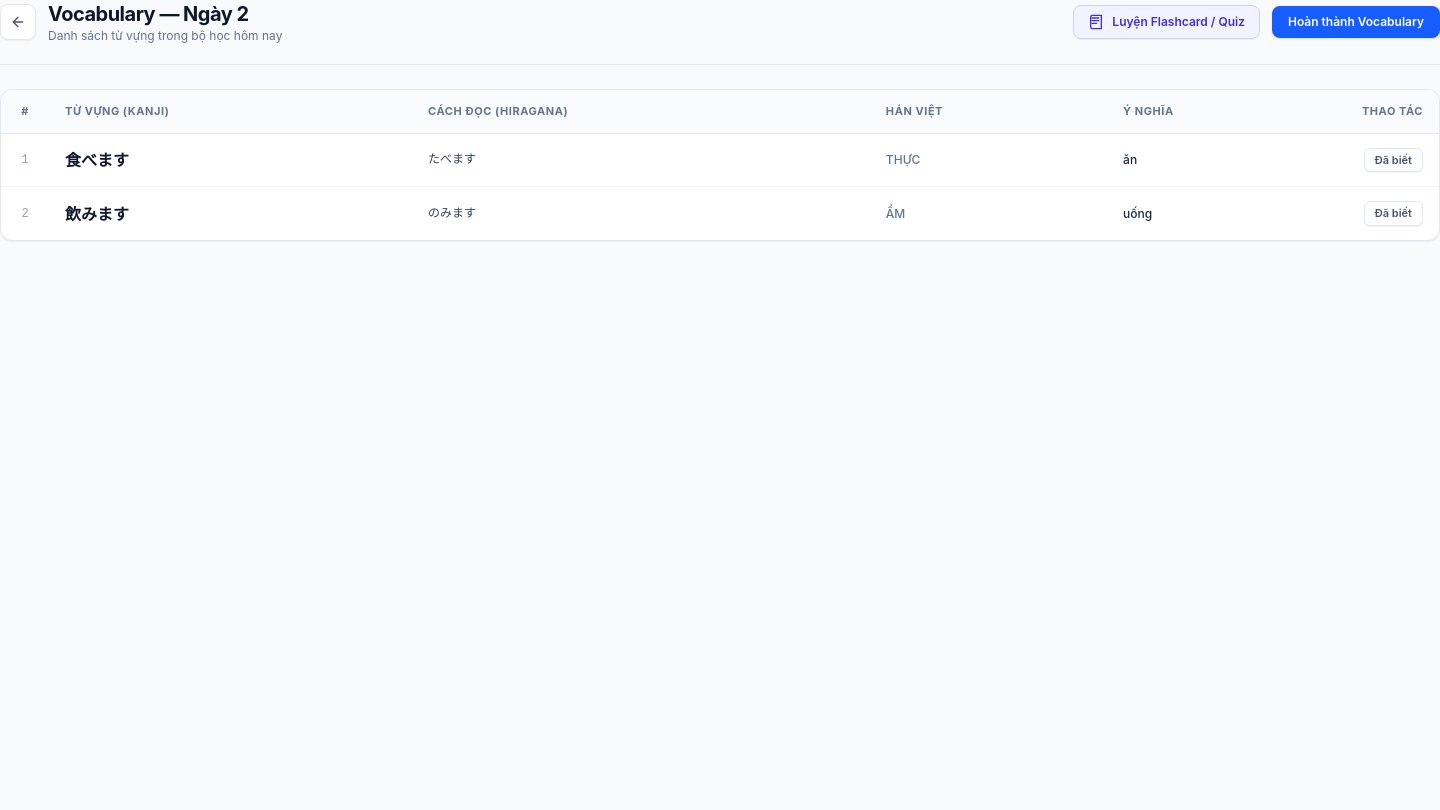
Test: Milestone F5 — Vocabulary Real Interaction Tests › marks item known through confirmation modal and replaces active item immediately
The image size is (1440, 810).
Expected: the text "食べます" is shown, x1=49 y1=133 x2=412 y2=187
Expected: the text "飲みます" is shown, x1=49 y1=187 x2=412 y2=240
Note: Click "Đã biết" for first item
Click the button "Đã biết" in the row of "食べます": click(1393, 160) x1=1364 y1=148 x2=1423 y2=172
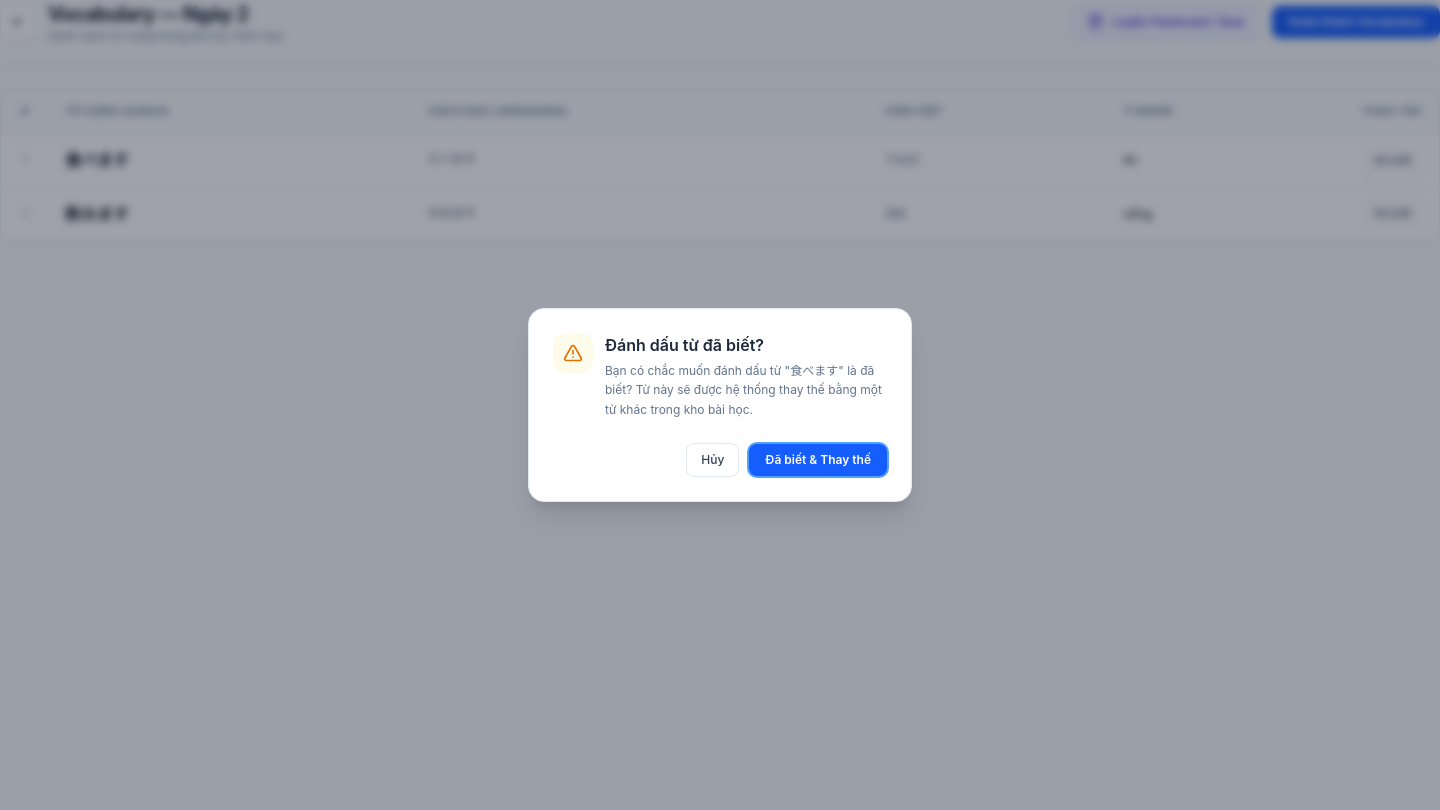
Expected: the heading "Đánh dấu từ đã biết?" is shown, x1=605 y1=335 x2=764 y2=355
Note: Confirm marking known
Click the button "Đã biết & Thay thế": click(818, 460) x1=749 y1=444 x2=887 y2=476
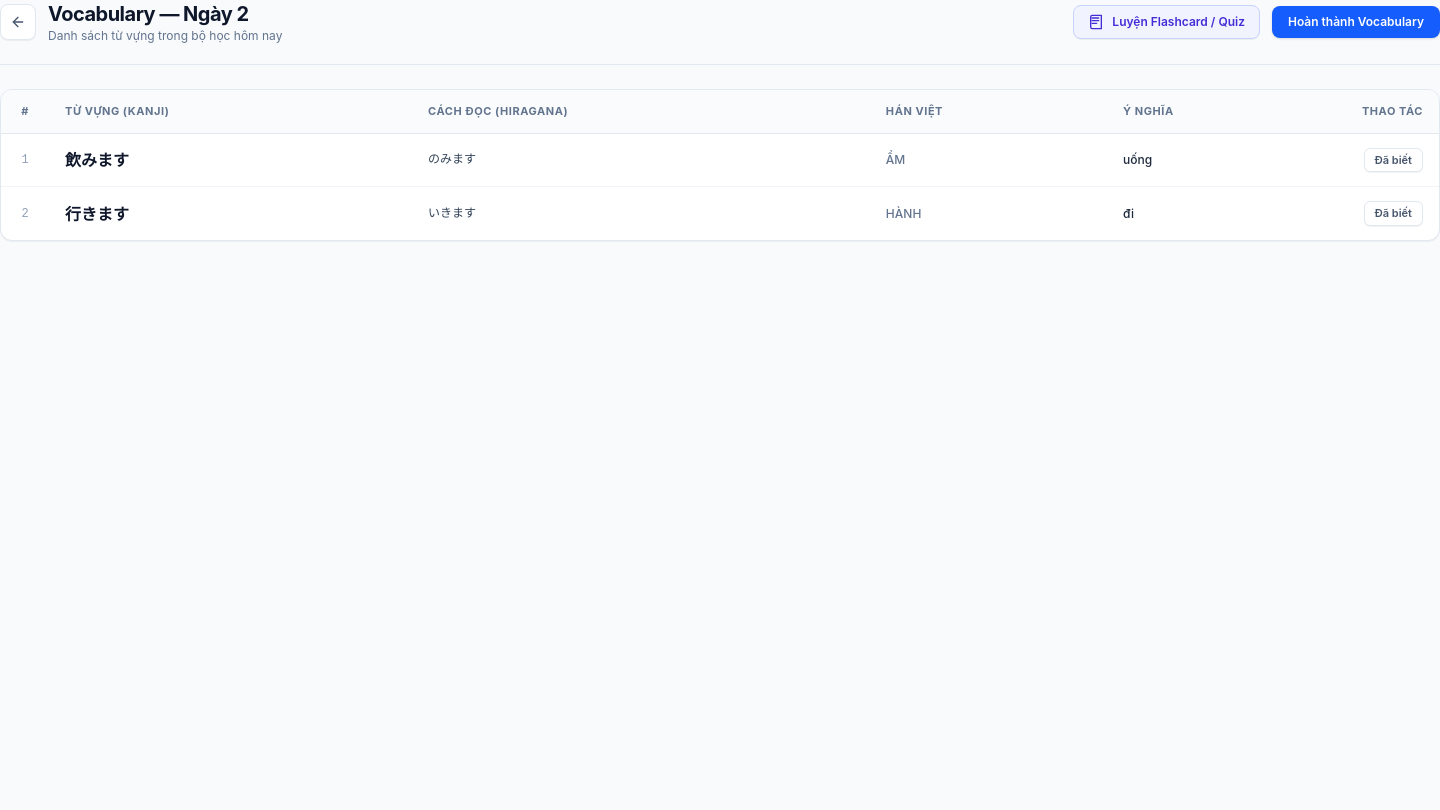
Expected: the text "行きます" is shown, x1=49 y1=187 x2=412 y2=240
Expected: the text "食べます" is gone
